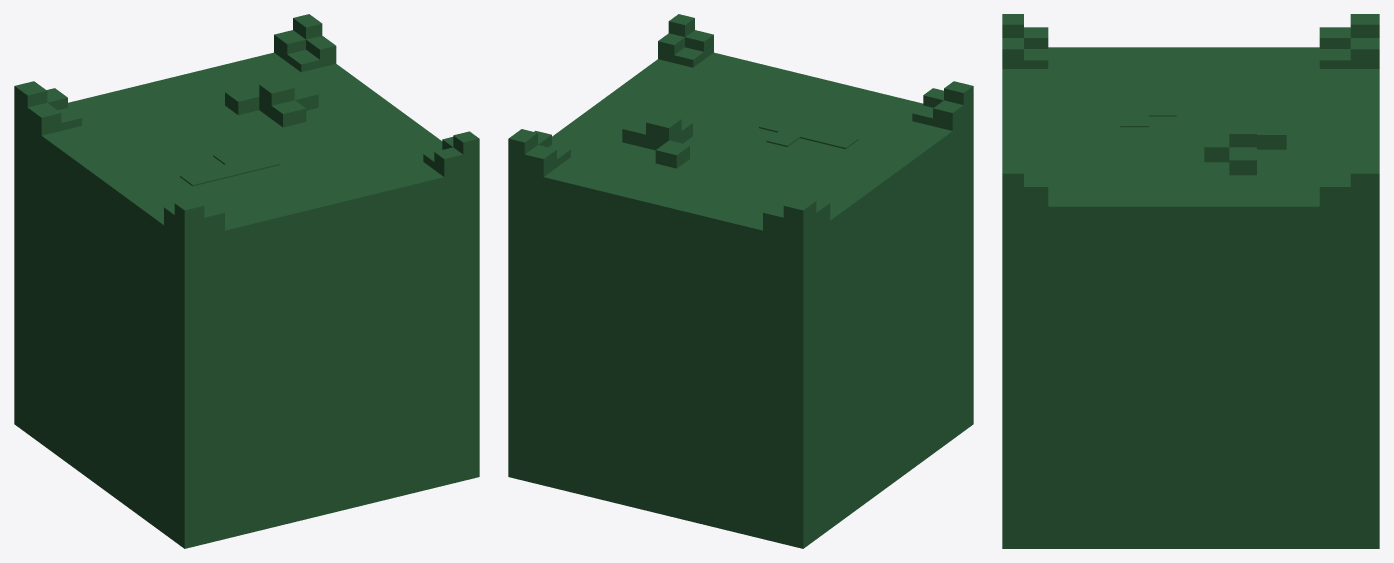
File: Grass (1).fbx
3 views of the same model, side by side, from view 1: azimuth 30°, elevation 25°; view 2: azimuth 150°, elevation 25°; view 3: azimuth 270°, elevation 25° (orthographic). The views are drawn at different scales.
Visible parts, largest first — view 1: pCube3; view 2: pCube3; view 3: pCube3.
Boxes of the visible parts, bbox=[...] form: pCube3: bbox=[14, 14, 479, 548]; pCube3: bbox=[508, 14, 973, 548]; pCube3: bbox=[1002, 14, 1379, 548].
Bounding box in the file's own units: 5.28 × 5.8 × 5.28.
